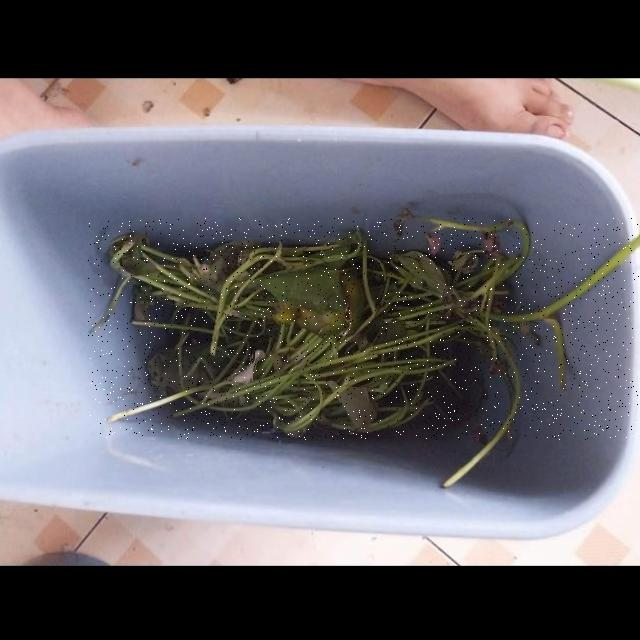biowaste: (89, 218, 640, 440)
